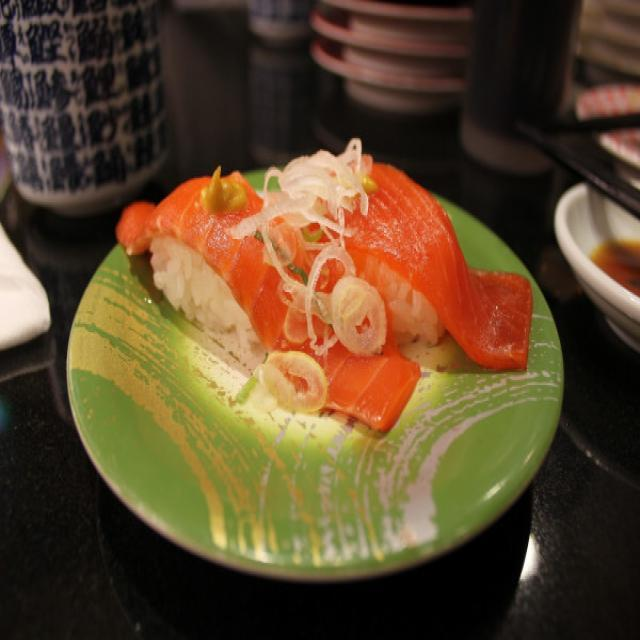Sushi: (109, 141, 532, 420)
